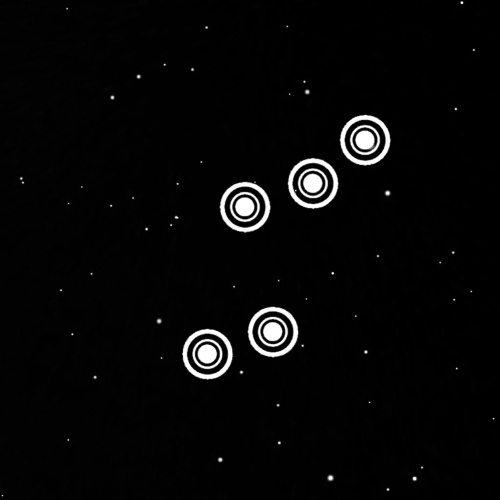lyra: (171, 99, 410, 388)
